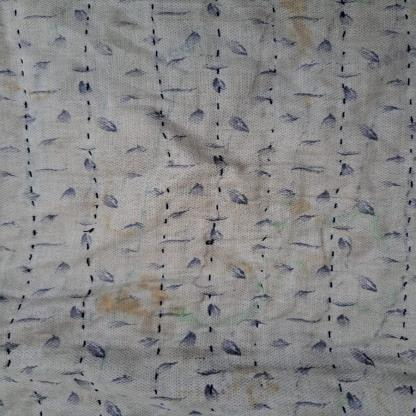spot: (88, 286, 194, 328), (268, 0, 342, 60), (118, 265, 188, 321), (90, 170, 135, 242), (235, 367, 284, 408), (245, 288, 284, 320), (4, 72, 33, 105), (278, 194, 315, 219), (370, 208, 388, 252), (328, 388, 356, 414), (369, 384, 397, 409), (235, 259, 268, 280), (382, 283, 408, 308), (339, 304, 376, 319)
